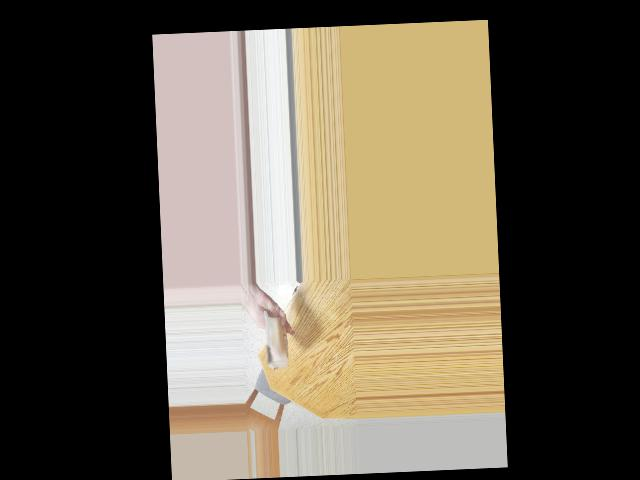cheese: (253, 313, 290, 366)
